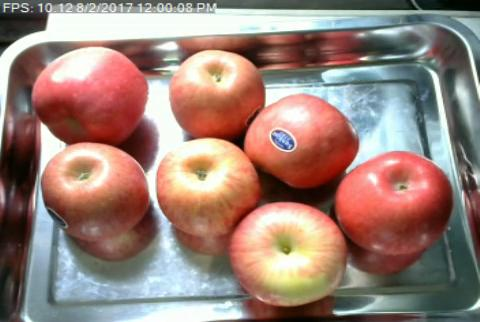apple: (337, 153, 452, 254), (231, 206, 344, 306), (35, 47, 147, 144), (244, 94, 359, 186), (41, 147, 149, 240), (156, 140, 255, 236), (170, 51, 264, 137)
